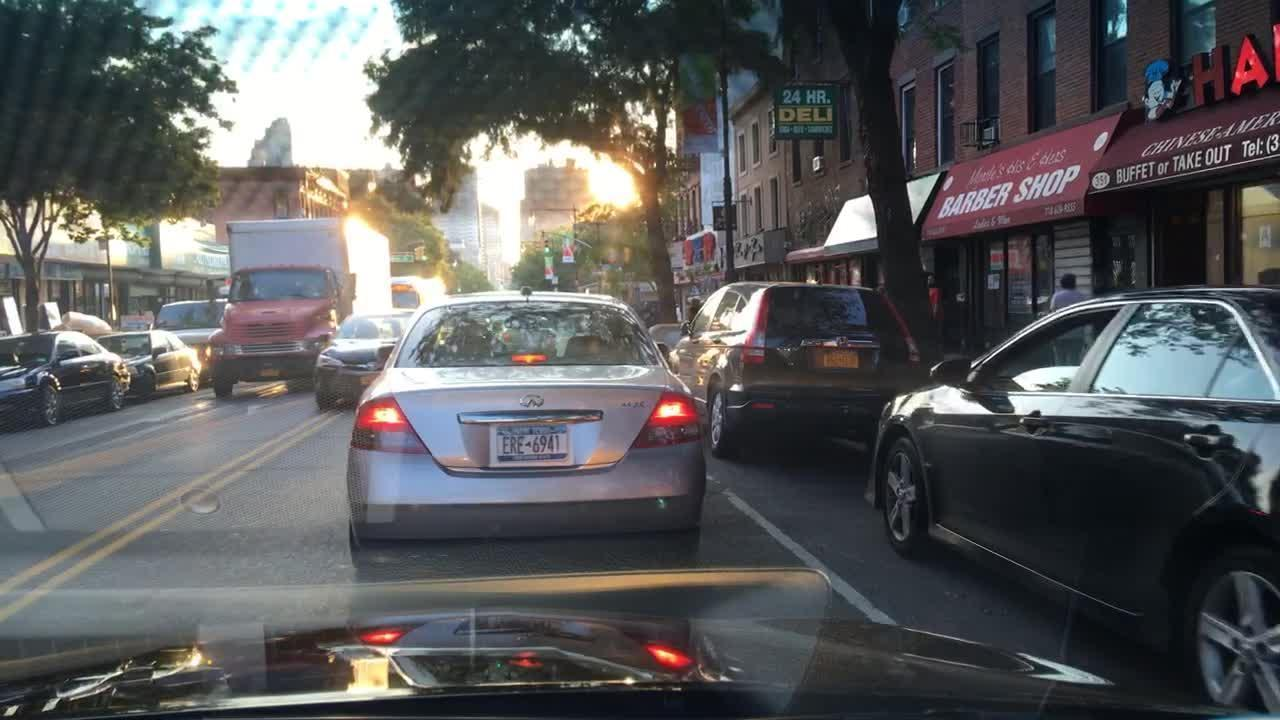Honda: (831, 331, 854, 351)
Infiniti: (514, 391, 548, 409)
